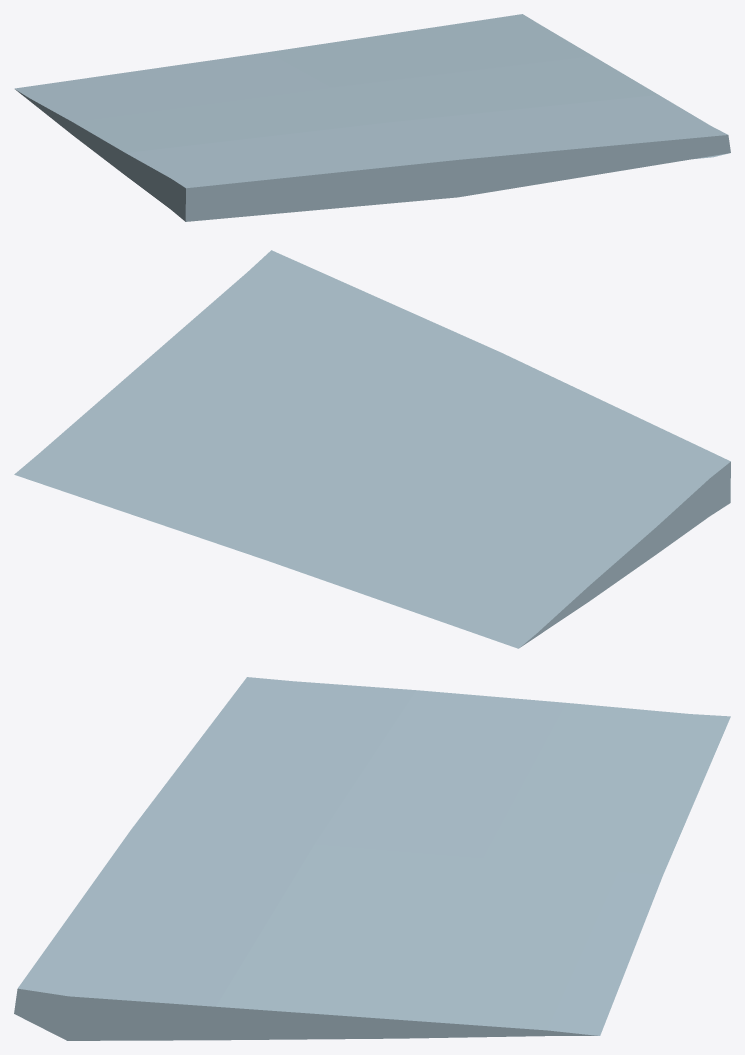
The model's file is su33d_flap_inner_right.glb.
3 views of the same model, one above another, from view 1: azimuth 30°, elevation 25°; view 2: azimuth 150°, elevation 25°; view 3: azimuth 270°, elevation 25° (orthographic). The views are drawn at different scales.
Visible parts, largest first — view 1: 0_FlapInnerRight; view 2: 0_FlapInnerRight; view 3: 0_FlapInnerRight.
Boxes of the visible parts, left/top/right/bottom form: 0_FlapInnerRight: left=14, top=14, right=730, bottom=221; 0_FlapInnerRight: left=14, top=250, right=730, bottom=648; 0_FlapInnerRight: left=14, top=677, right=730, bottom=1040.
Bounding box in the file's own units: 1.33 × 0.1032 × 1.27.
